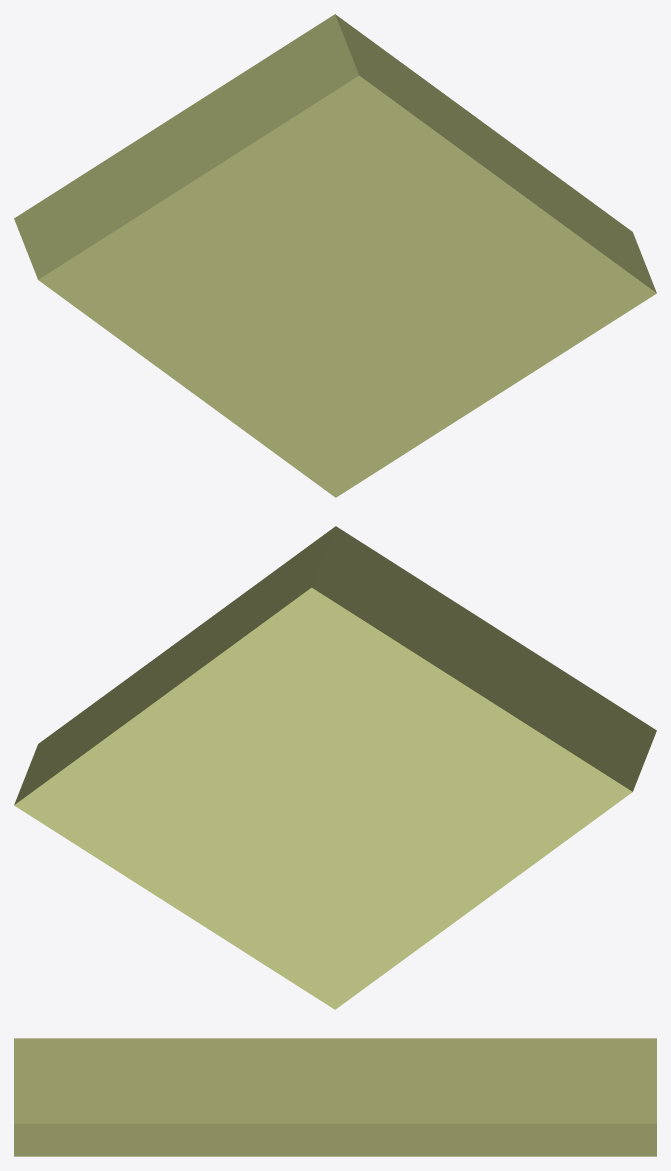
3 renders of one model, top to bottom at view 1: azimuth 30°, elevation 25°; view 2: azimuth 150°, elevation 25°; view 3: azimuth 270°, elevation 25°, orthographic. The views are drawn at different scales.
Visible parts, largest first — view 1: 0_1_3_2_2_2_2_3_0_3_1_0; view 2: 0_1_3_2_2_2_2_3_0_3_1_0; view 3: 0_1_3_2_2_2_2_3_0_3_1_0.
Part boxes in pixels (left/top/right/bottom): 0_1_3_2_2_2_2_3_0_3_1_0: left=14, top=14, right=656, bottom=497; 0_1_3_2_2_2_2_3_0_3_1_0: left=14, top=526, right=656, bottom=1009; 0_1_3_2_2_2_2_3_0_3_1_0: left=14, top=1038, right=656, bottom=1156.
Size of the model in its own units: 4.02 by 2.15 by 6.
